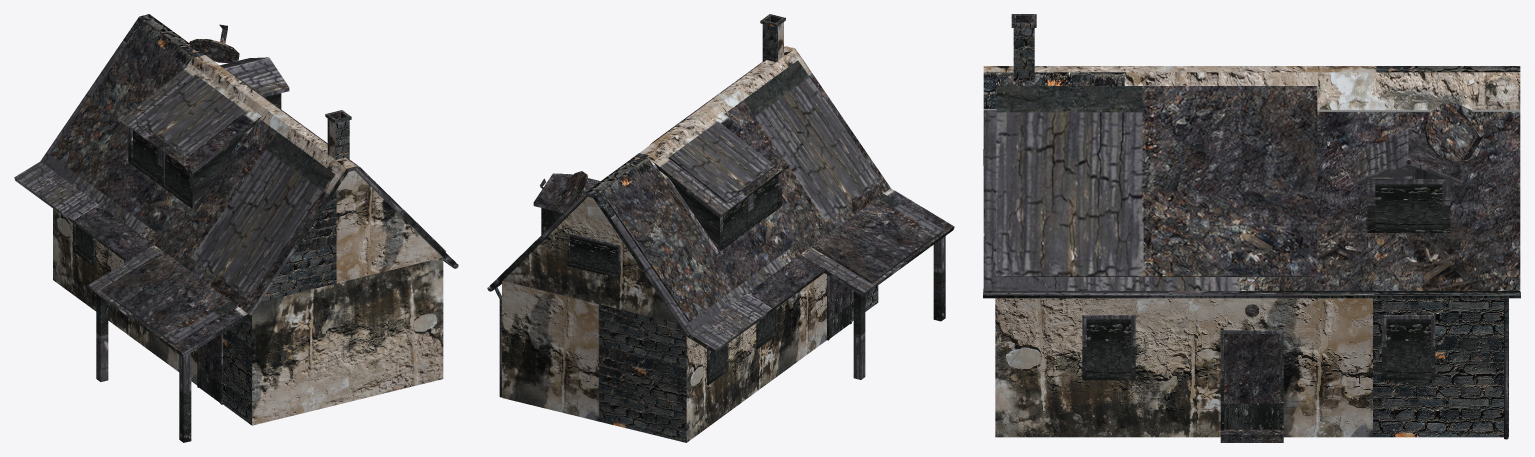
File: haus3.fbx
The picture shows the model from 3 angles, left to right: view 1: azimuth 30°, elevation 25°; view 2: azimuth 150°, elevation 25°; view 3: azimuth 270°, elevation 25°; orthographic projection. The views are drawn at different scales.
Visible parts, largest first — view 1: haus3_LOD0; view 2: haus3_LOD0; view 3: haus3_LOD0.
Part boxes in pixels (x1,y1,x2,y2): haus3_LOD0: (14, 14, 458, 442); haus3_LOD0: (487, 14, 954, 442); haus3_LOD0: (983, 14, 1520, 442).
Size of what is drawn, in the model's own units: 15.8 by 15.18 by 20.6.
